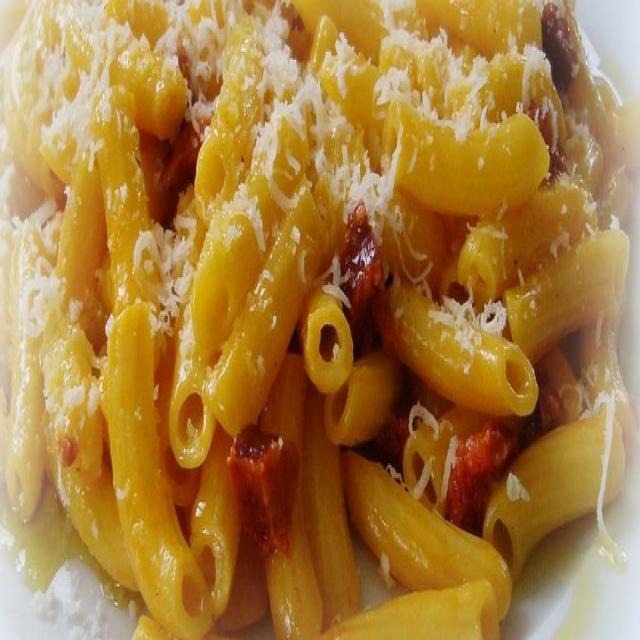Pasta with carbonara sauce: (20, 19, 630, 619)
